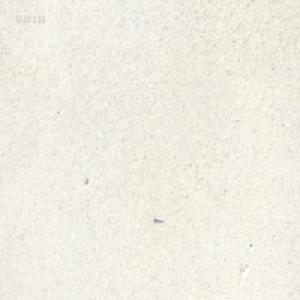Nail: (153, 215, 163, 223)
